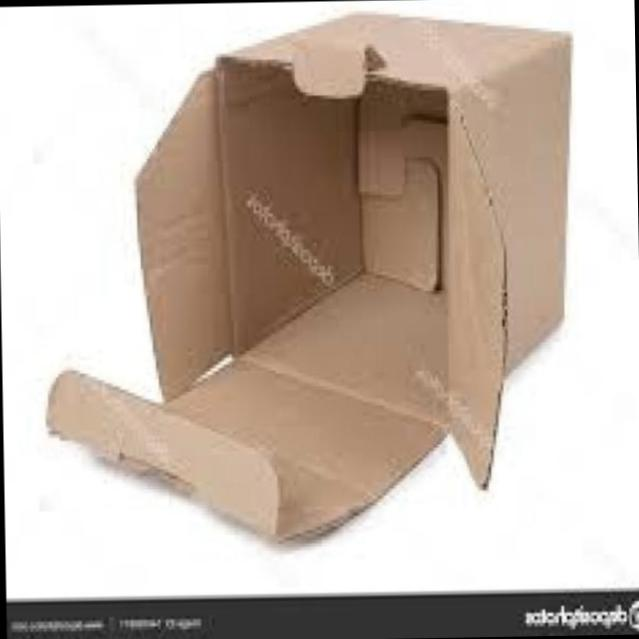cardboard paper: (49, 12, 570, 537)
